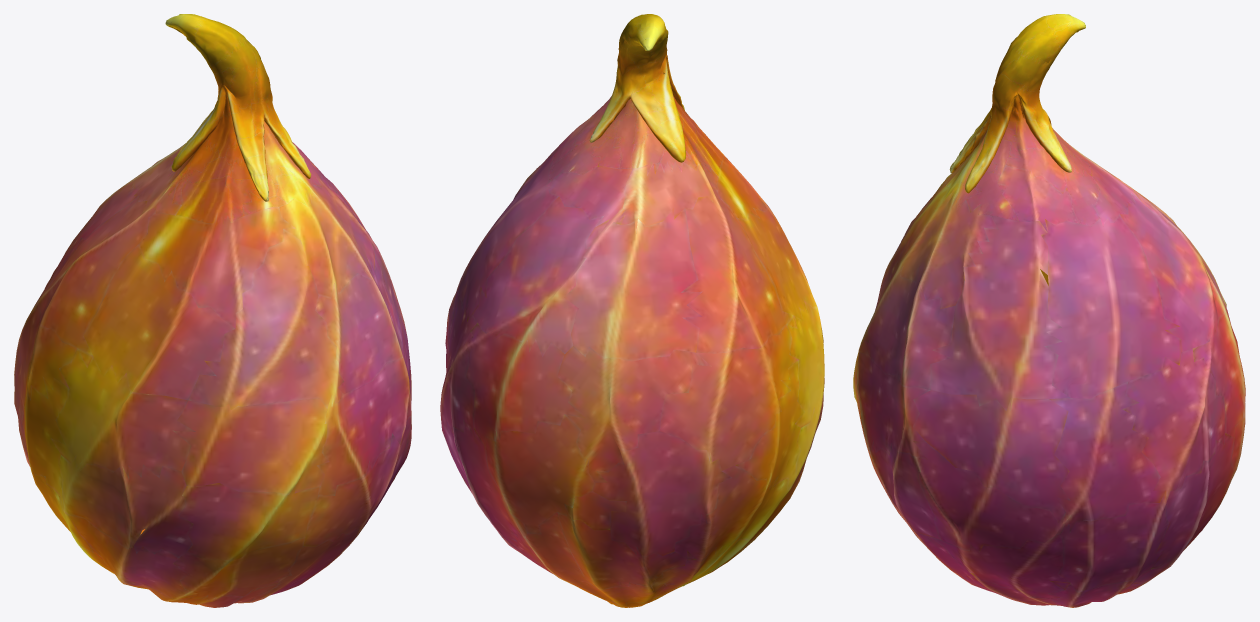
Rendered from seed_magic.glb.
3 views of the same model, side by side, from view 1: azimuth 30°, elevation 25°; view 2: azimuth 150°, elevation 25°; view 3: azimuth 270°, elevation 25° (orthographic). The views are drawn at different scales.
Visible parts, largest first — view 1: geometry_0; view 2: geometry_0; view 3: geometry_0.
Part boxes in pixels (<box>): geometry_0: <box>14,14,411,607</box>; geometry_0: <box>440,14,824,607</box>; geometry_0: <box>853,14,1245,607</box>.
Size of the model in its own units: 0.5776 by 0.9512 by 0.5859.
Materials: 1 (1 with a texture image).
